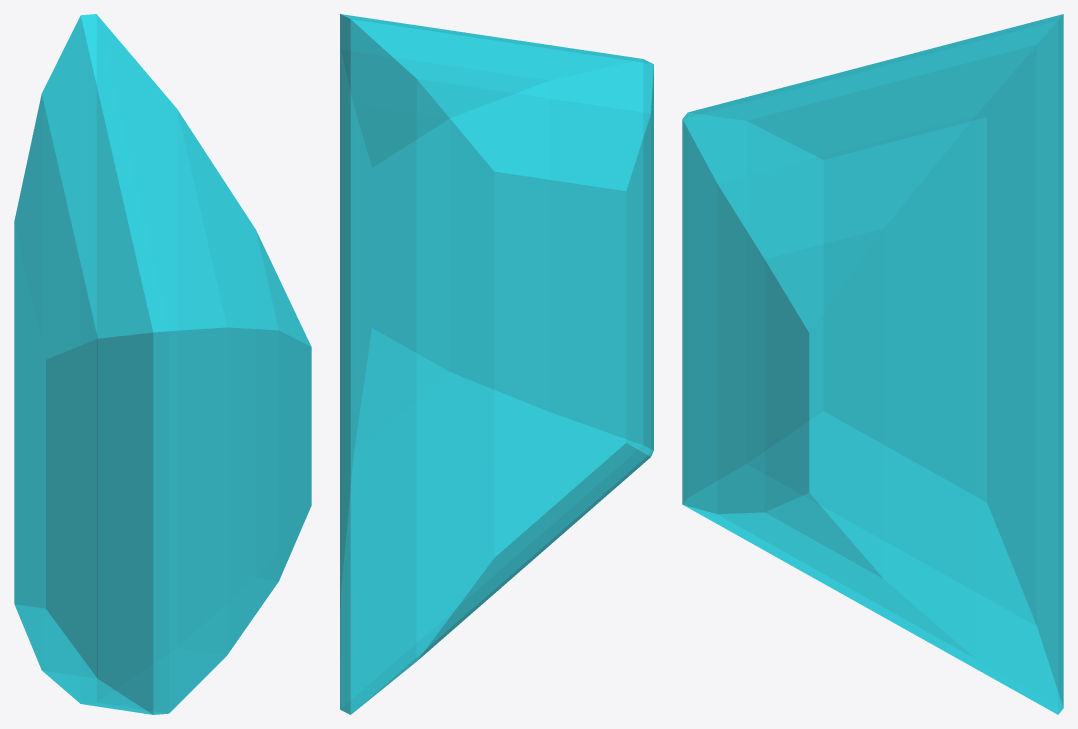
The model's file is trapeze aquamarine.glb.
3 views of the same model, side by side, from view 1: azimuth 30°, elevation 25°; view 2: azimuth 150°, elevation 25°; view 3: azimuth 270°, elevation 25° (orthographic).
Visible parts, largest first — view 1: Trapeze Gemstone.001; view 2: Trapeze Gemstone.001; view 3: Trapeze Gemstone.001.
Boxes of the visible parts, box(x1,y1,x2,y2) form: Trapeze Gemstone.001: box(14, 14, 311, 714); Trapeze Gemstone.001: box(340, 14, 653, 714); Trapeze Gemstone.001: box(682, 14, 1063, 714).
Bounding box in the file's own units: 0.7447 × 1.89 × 0.9423.
